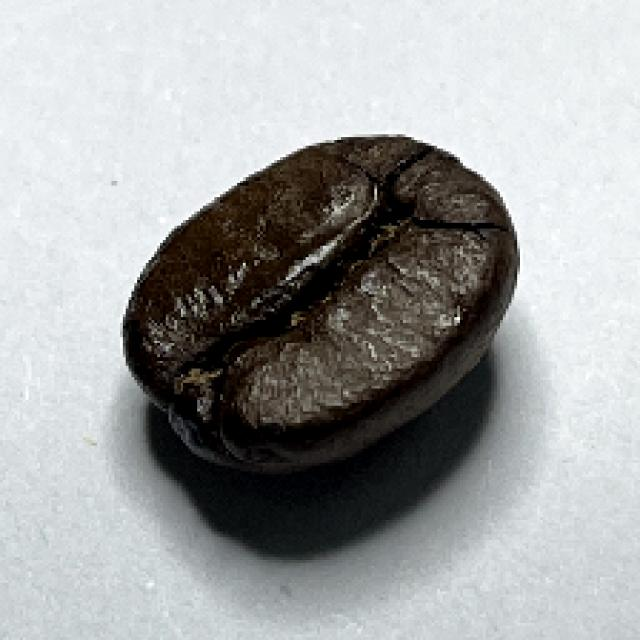bean: (117, 130, 524, 483)
